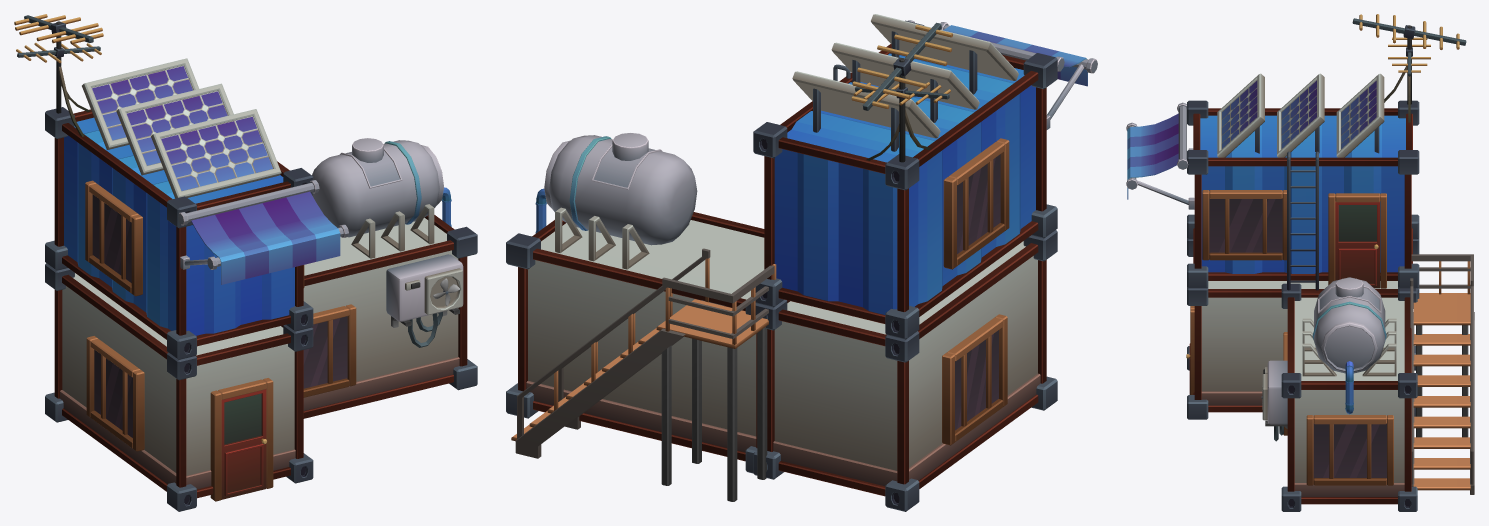
File: sp_prebuild_house_07.fbx
The picture shows the model from 3 angles, left to right: view 1: azimuth 30°, elevation 25°; view 2: azimuth 150°, elevation 25°; view 3: azimuth 270°, elevation 25°; orthographic projection. The views are drawn at different scales.
Visible parts, largest first — view 1: finb_house_07; view 2: finb_house_07; view 3: finb_house_07.
Part boxes in pixels (x1,y1,x2,y2): finb_house_07: (14, 14, 477, 511); finb_house_07: (506, 14, 1097, 511); finb_house_07: (1126, 14, 1474, 511).
Size of the model in its own units: 856 by 826 by 750.
